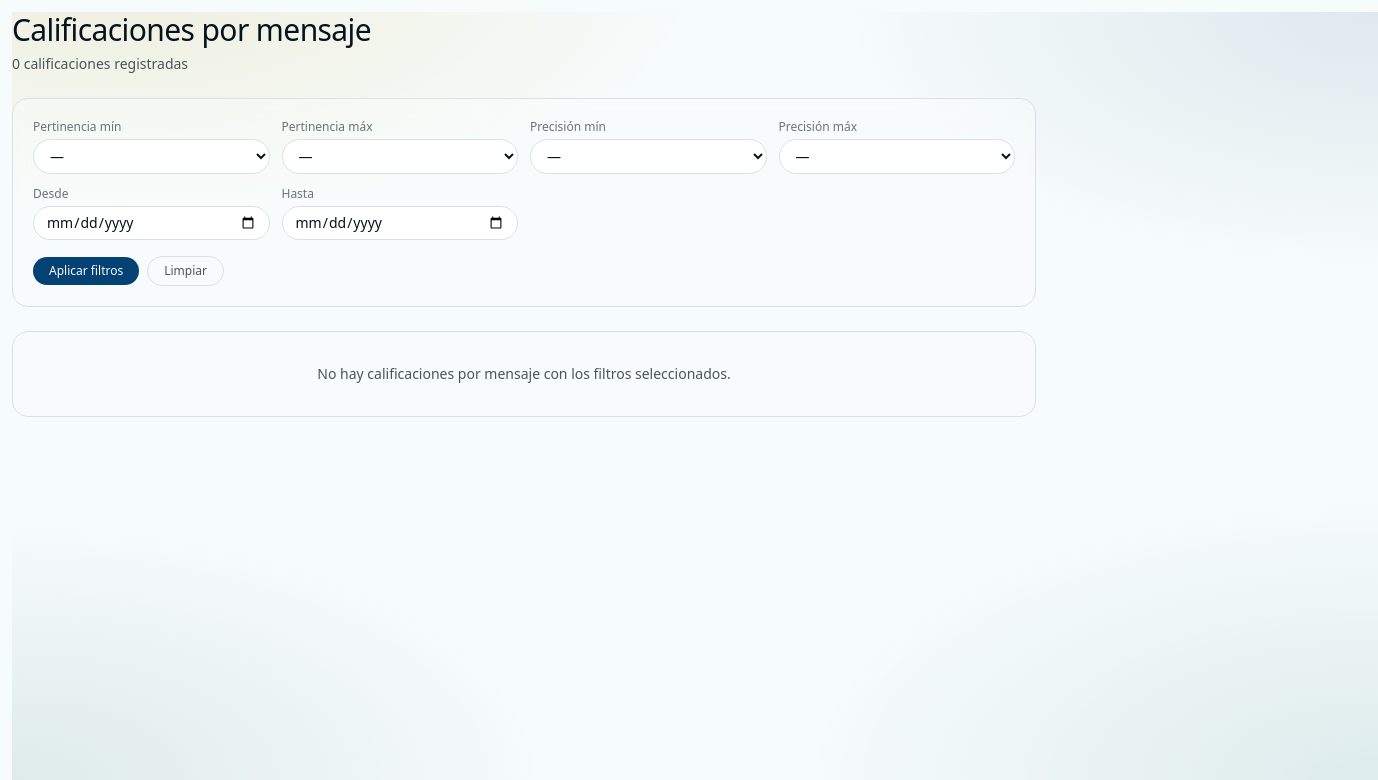
MessageFeedbackPage — filtros administrativos (A3) › bloquea 'Aplicar filtros' si la pertinencia mínima es mayor que la máxima
Select "5 ★" in the dropdown labelled "Pertinencia mín" at coordinates (151, 156), box [33,139,270,174]
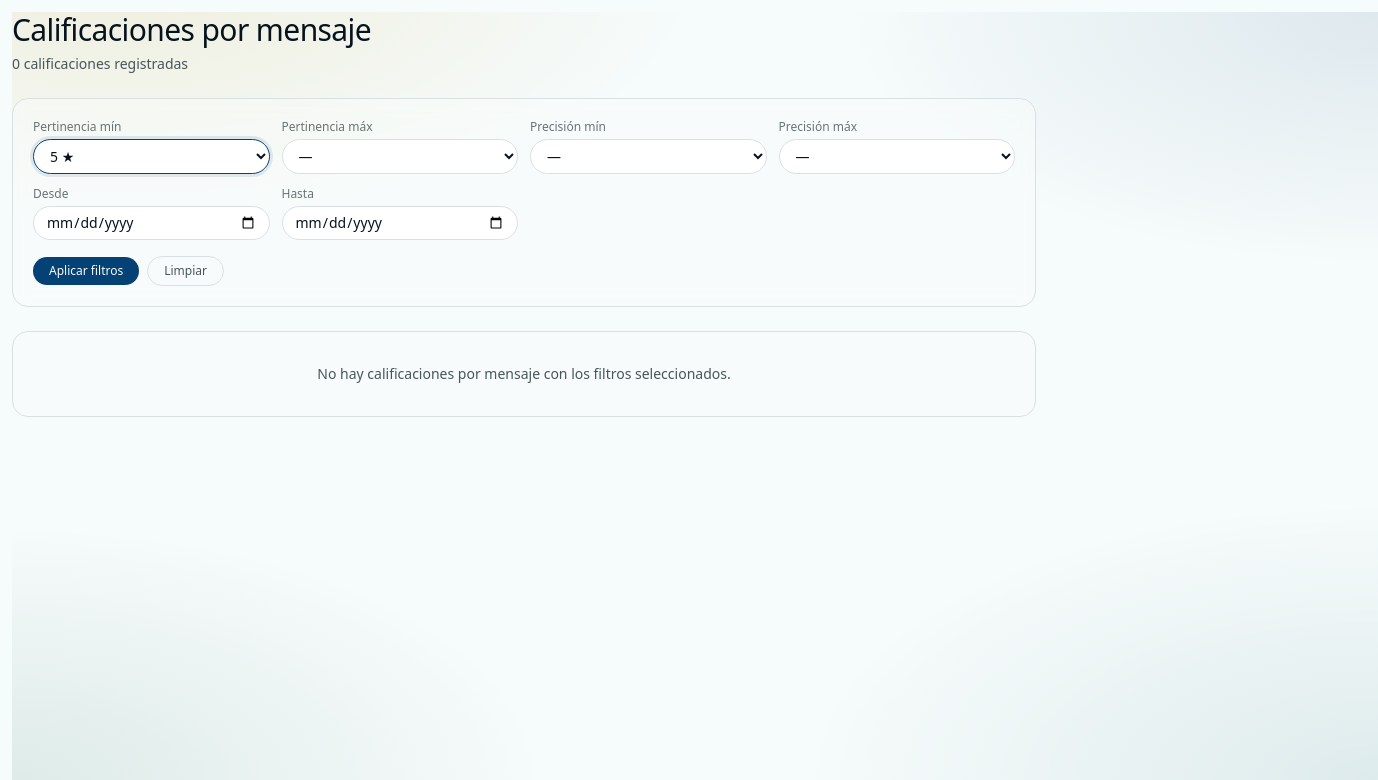
Select "2 ★" in the dropdown labelled "Pertinencia máx" at coordinates (400, 156), box [282,139,518,174]
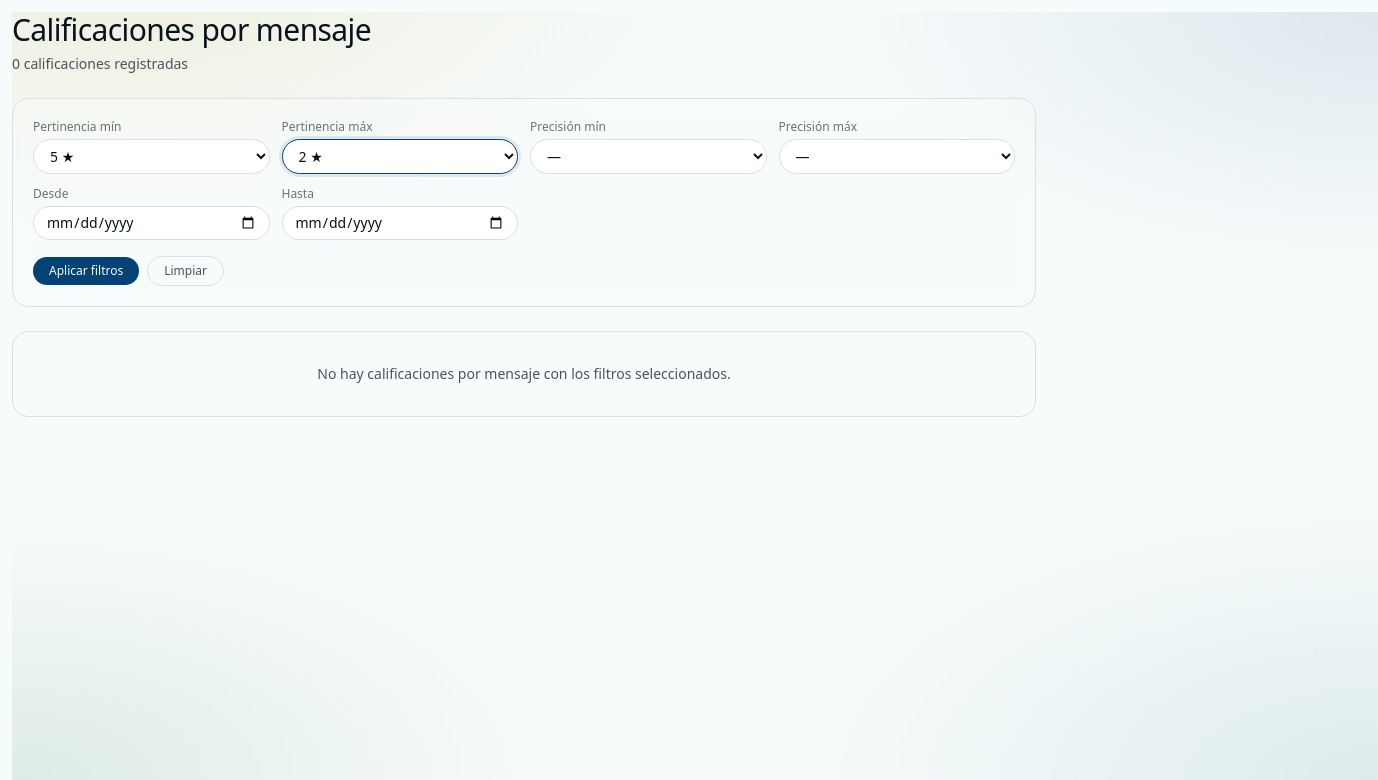
Click the button "Aplicar filtros".
click(86, 271)  # box [33,257,139,285]
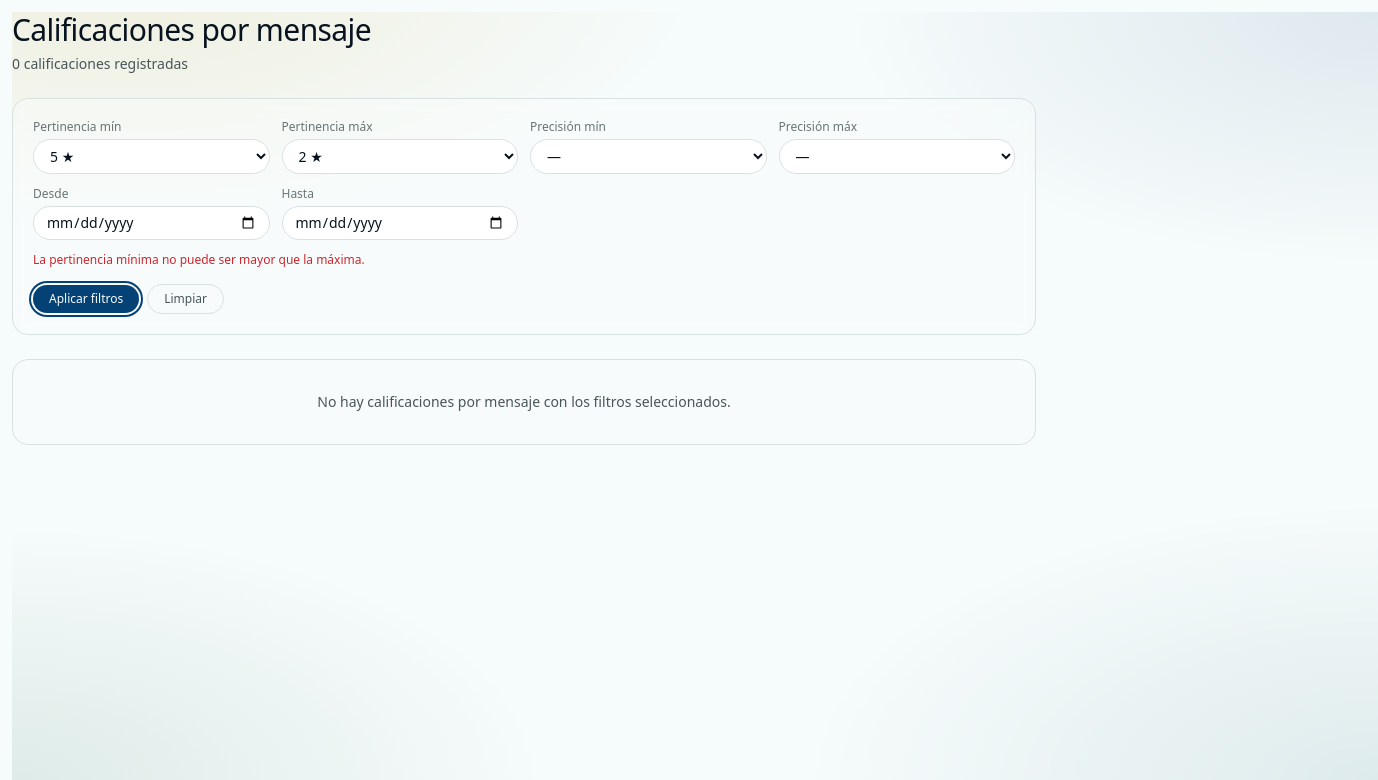
Expected: the message shows "pertinencia mínima no puede ser mayor", [33,251,365,268]
